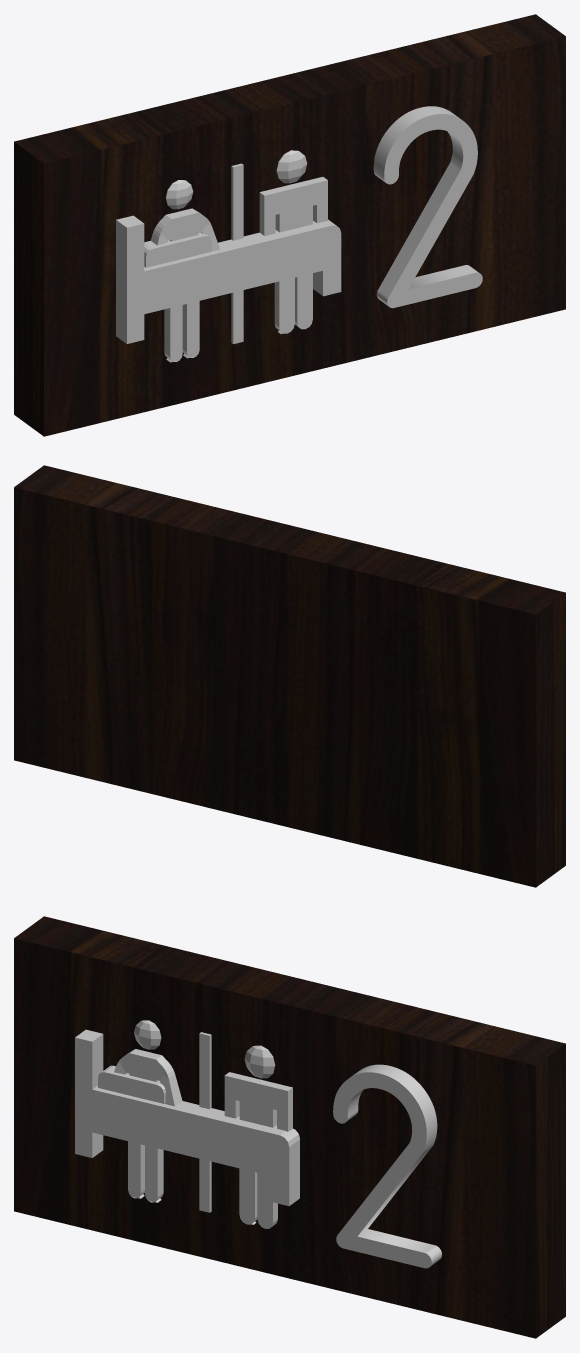
The model's file is Toilet 2.fbx.
3 views of the same model, one above another, from view 1: azimuth 30°, elevation 25°; view 2: azimuth 150°, elevation 25°; view 3: azimuth 330°, elevation 25° (orthographic).
Parts seen in each view (by area): view 1: Base, Bed, Cube, Text; view 2: Base; view 3: Base, Bed, Cube, Text.
Boxes of the visible parts, x1,y1,x2,y2 form: Base: [14, 14, 565, 436]; Bed: [116, 215, 341, 343]; Cube: [151, 150, 327, 362]; Text: [373, 106, 482, 308]; Base: [14, 465, 565, 887]; Base: [14, 916, 565, 1338]; Bed: [75, 1029, 299, 1205]; Cube: [114, 1020, 292, 1228]; Text: [333, 1064, 441, 1268].
Bounding box in the file's own units: 200 × 100 × 27.26.
